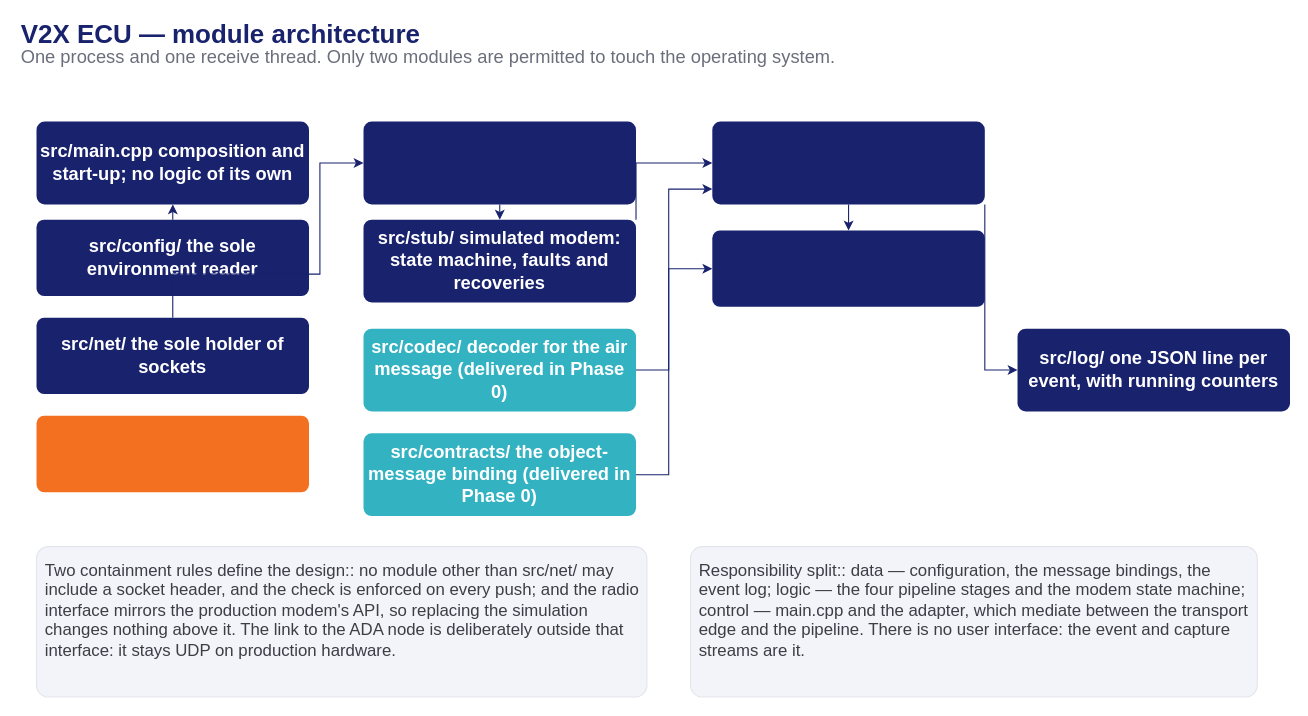
Some shapes in this 1308 by 716 pixel diagram are drawn without their labels. The shapes that lost their labels are listed below. From the top down, each one's centre as x and y in pixels, then its label:
At (x=499, y=162): "src/adapter/ the frozen radio interface and its implementation".
At (x=848, y=162): "src/pipeline/ four stages: validate, deduplicate, build, compose".
At (x=848, y=268): "src/forward/ object-message transmitter".
At (x=172, y=453): "capture.sh traffic capture, separate process".
